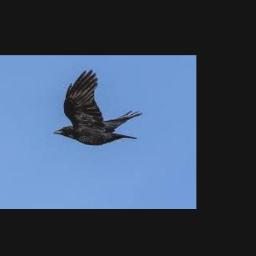Crow: (53, 70, 142, 145)
